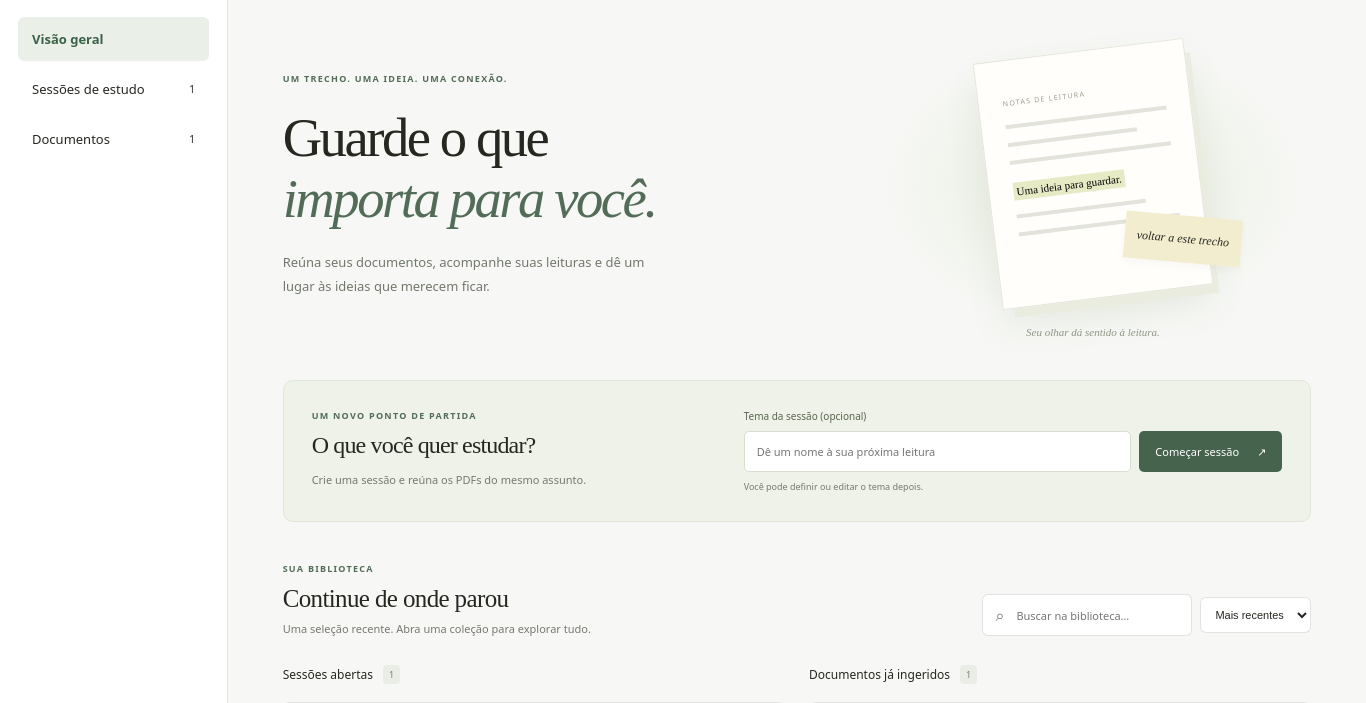
Test case: SessionLibrary › filters by theme without accents and reports no results
In the search field: (1097, 615) [1014,606,1179,624], type "recuperacao"
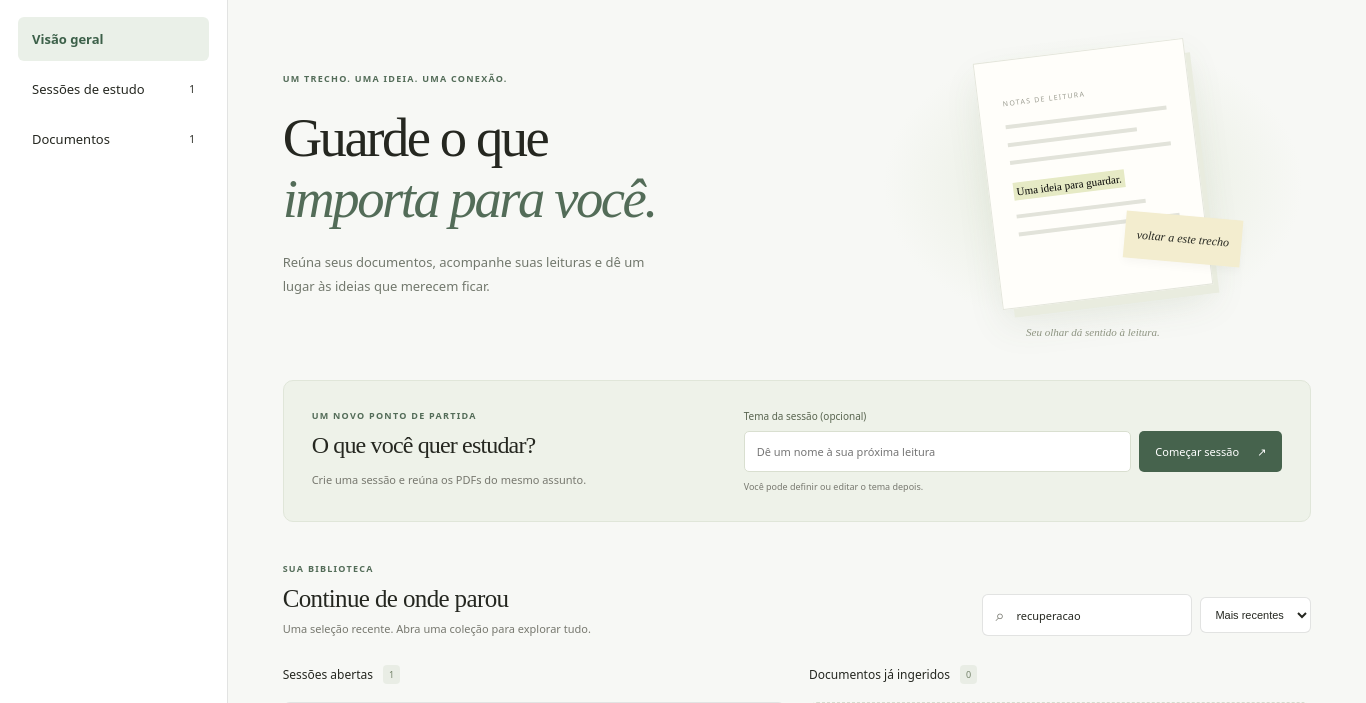
Replace the text in the search field with "inexistente": (1097, 615) [1014,606,1179,624]
(page scrolled)
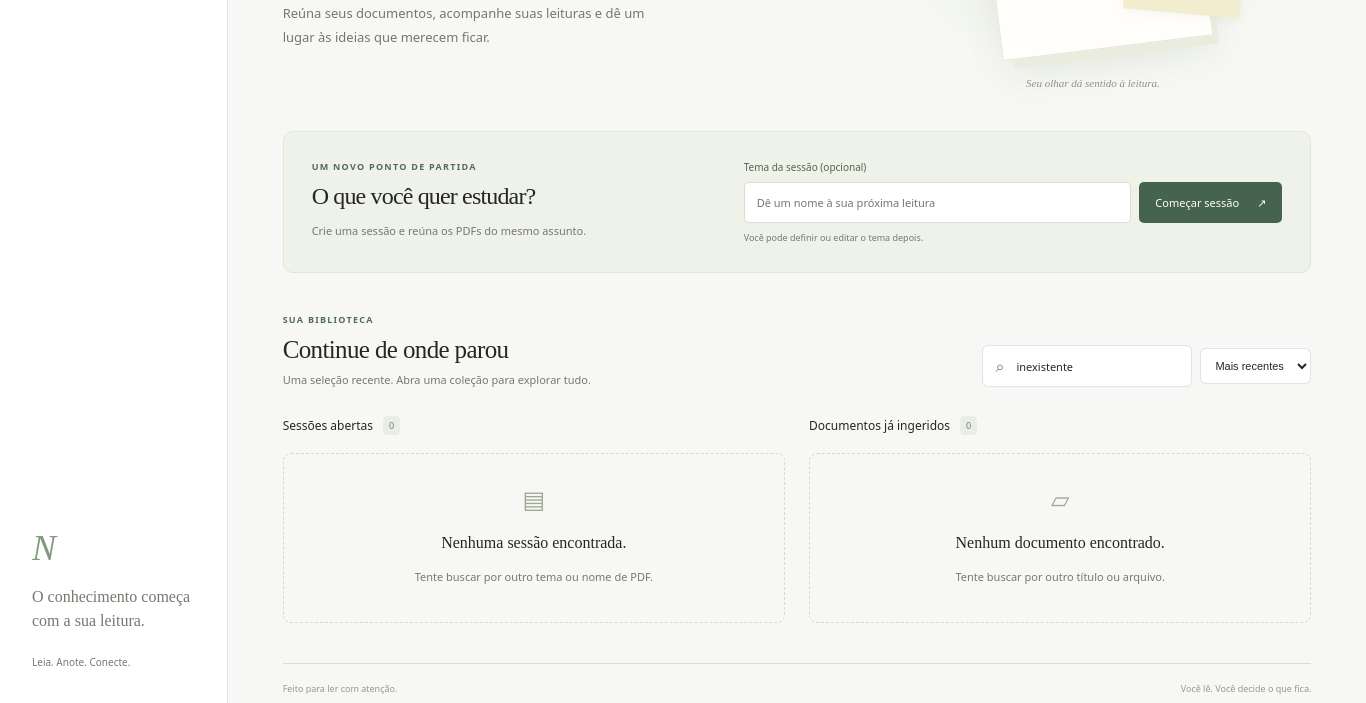
Expected: the heading "Nenhuma sessão encontrada." is shown, [441,534,626,560]
